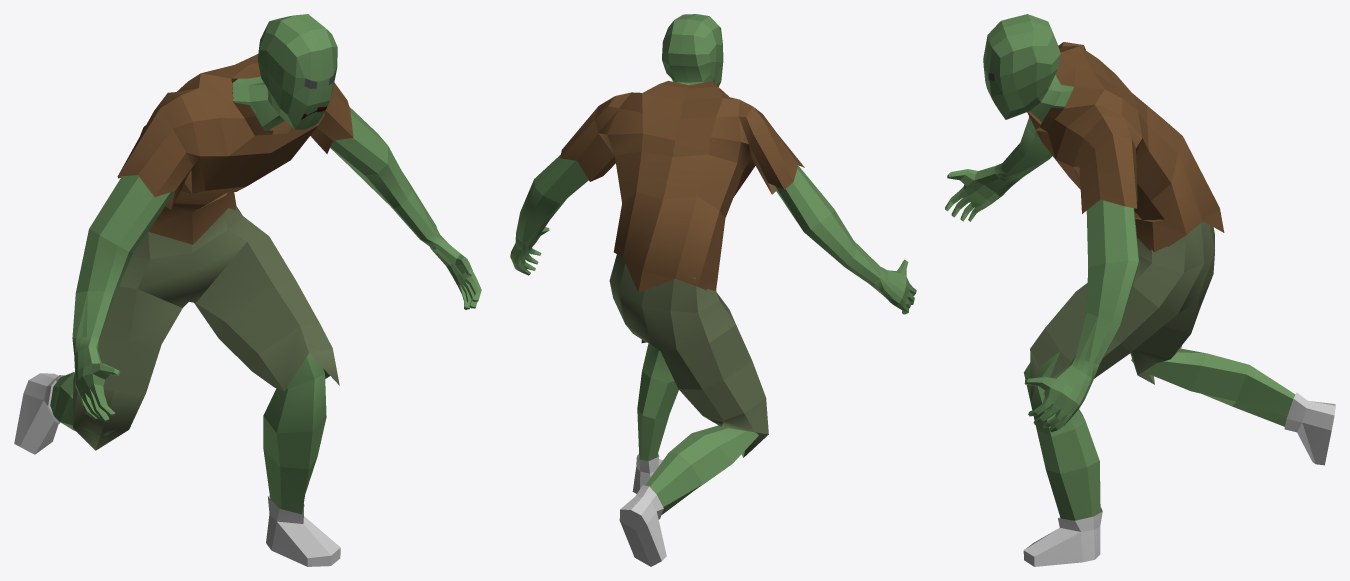
Rendered from ZombieWalk(9).obj.
3 views of the same model, side by side, from view 1: azimuth 30°, elevation 25°; view 2: azimuth 150°, elevation 25°; view 3: azimuth 270°, elevation 25° (orthographic). The views are drawn at different scales.
Parts seen in each view (by area): view 1: Object001; view 2: Object001; view 3: Object001.
Boxes of the visible parts, <box> form: Object001: <box>14,14,481,566</box>; Object001: <box>510,14,916,566</box>; Object001: <box>945,14,1335,566</box>.
Size of the model in its own units: 40.05 by 49.41 by 33.31.
